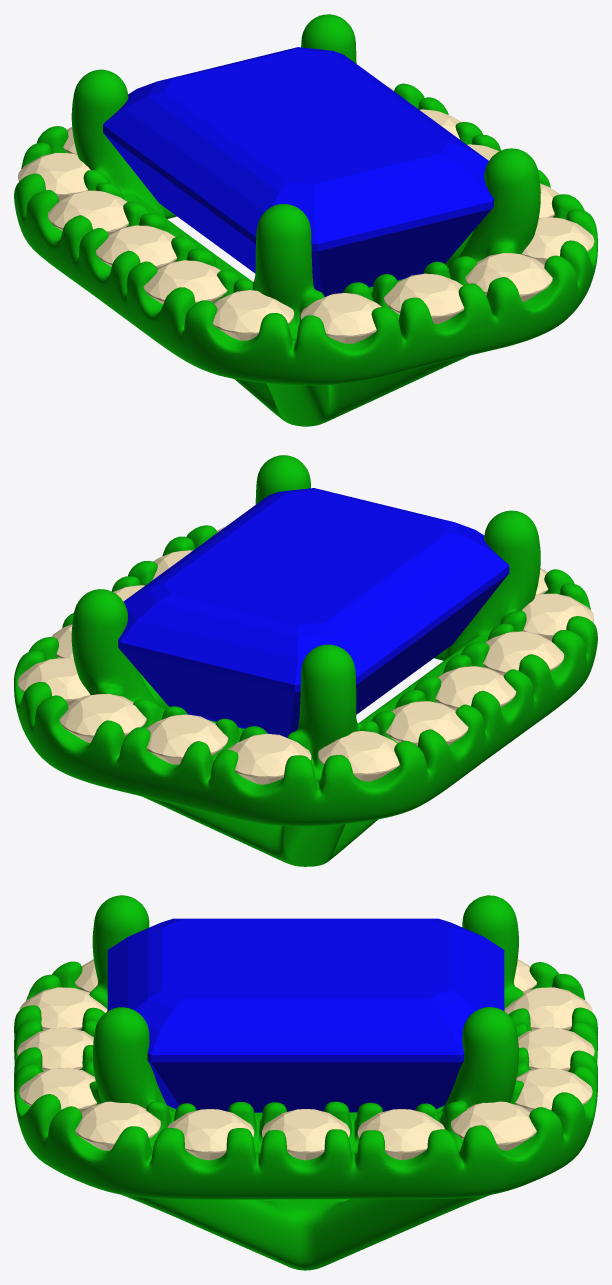
The picture shows the model from 3 angles, top to bottom: view 1: azimuth 30°, elevation 25°; view 2: azimuth 150°, elevation 25°; view 3: azimuth 270°, elevation 25°; orthographic projection.
Parts seen in each view (by area): view 1: Metal01, Diamond_Emerald, Diamond_Round.005, Diamond_Round.006, Diamond_Round.003, Diamond_Round.004, Diamond_Round.007, Diamond_Round.009, Diamond_Round.008, Diamond_Round.010, Diamond_Round.002; view 2: Metal01, Diamond_Emerald, Diamond_Round.012, Diamond_Round.011, Diamond_Round.013, Diamond_Round.010, Diamond_Round.009, Diamond_Round.008, Diamond_Round.007, Diamond_Round.006, Diamond_Round.014; view 3: Metal01, Diamond_Emerald, Diamond_Round.015, Diamond_Round.002, Diamond_Round.014, Diamond_Round, Diamond_Round.001, Diamond_Round.003, Diamond_Round.011, Diamond_Round.012, Diamond_Round.013, Diamond_Round.005 (+3 smaller).
Boxes of the visible parts, box(x1,y1,x2,y2) form: Metal01: box(14, 14, 597, 426); Diamond_Emerald: box(103, 47, 493, 296); Diamond_Round.005: box(300, 293, 381, 343); Diamond_Round.006: box(213, 290, 293, 340); Diamond_Round.003: box(465, 253, 552, 301); Diamond_Round.004: box(384, 273, 463, 323); Diamond_Round.007: box(143, 260, 227, 303); Diamond_Round.009: box(48, 190, 128, 234); Diamond_Round.008: box(96, 225, 176, 269); Diamond_Round.010: box(18, 153, 90, 200); Diamond_Round.002: box(521, 217, 594, 264); Metal01: box(14, 455, 597, 866); Diamond_Emerald: box(118, 488, 509, 737); Diamond_Round.012: box(146, 714, 228, 764); Diamond_Round.011: box(227, 733, 311, 784); Diamond_Round.013: box(59, 694, 146, 742); Diamond_Round.010: box(318, 731, 399, 781); Diamond_Round.009: box(385, 701, 468, 745); Diamond_Round.008: box(435, 666, 516, 710); Diamond_Round.007: box(483, 631, 564, 675); Diamond_Round.006: box(522, 593, 593, 641); Diamond_Round.014: box(18, 658, 90, 705); Metal01: box(14, 895, 597, 1270); Diamond_Emerald: box(107, 918, 504, 1112); Diamond_Round.015: box(357, 1109, 445, 1159); Diamond_Round.002: box(75, 1101, 160, 1150); Diamond_Round.014: box(451, 1101, 536, 1150); Diamond_Round: box(262, 1109, 349, 1160); Diamond_Round.001: box(167, 1109, 254, 1160); Diamond_Round.003: box(19, 1067, 96, 1112); Diamond_Round.011: box(504, 987, 592, 1030); Diamond_Round.012: box(518, 1027, 594, 1071); Diamond_Round.013: box(515, 1067, 592, 1112); Diamond_Round.005: box(19, 987, 107, 1030).
Bounding box in the file's own units: 9.29 × 6.62 × 11.27.
